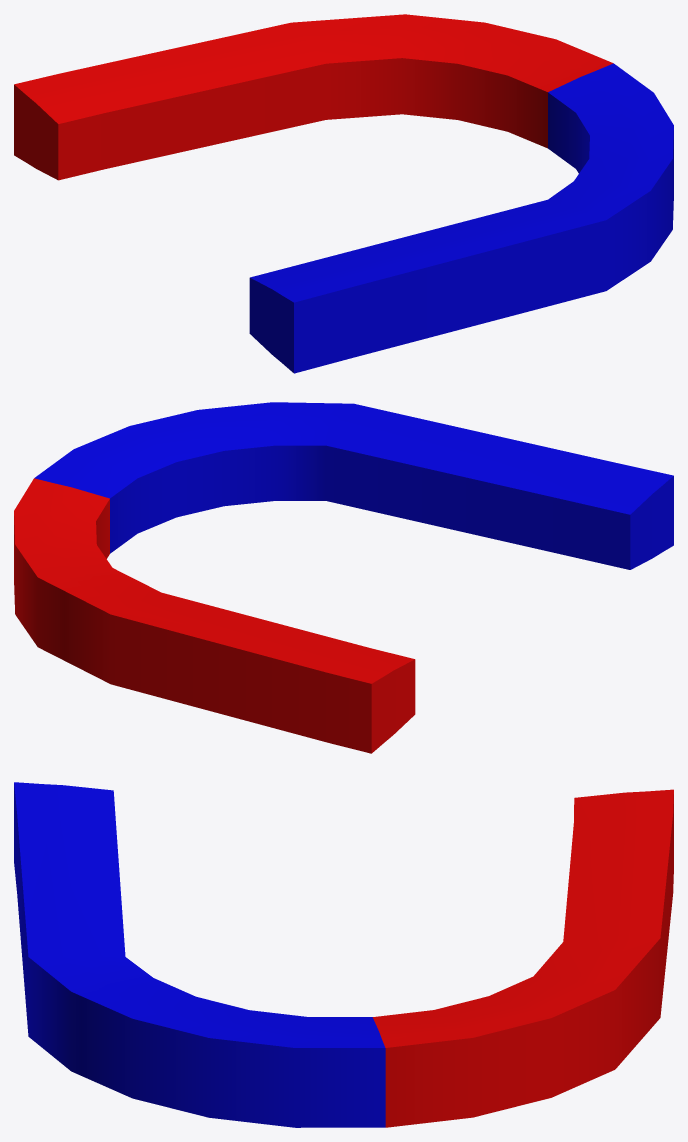
File: c magnet.fbx
The picture shows the model from 3 angles, top to bottom: view 1: azimuth 30°, elevation 25°; view 2: azimuth 150°, elevation 25°; view 3: azimuth 270°, elevation 25°; orthographic projection. The views are drawn at different scales.
Parts seen in each view (by area): view 1: u_magnet; view 2: u_magnet; view 3: u_magnet.
Boxes of the visible parts, x1,y1,x2,y2 form: u_magnet: (14, 14, 673, 373); u_magnet: (14, 402, 673, 753); u_magnet: (14, 782, 673, 1127).
Size of the model in its own units: 7.24 by 1.01 by 7.59.
